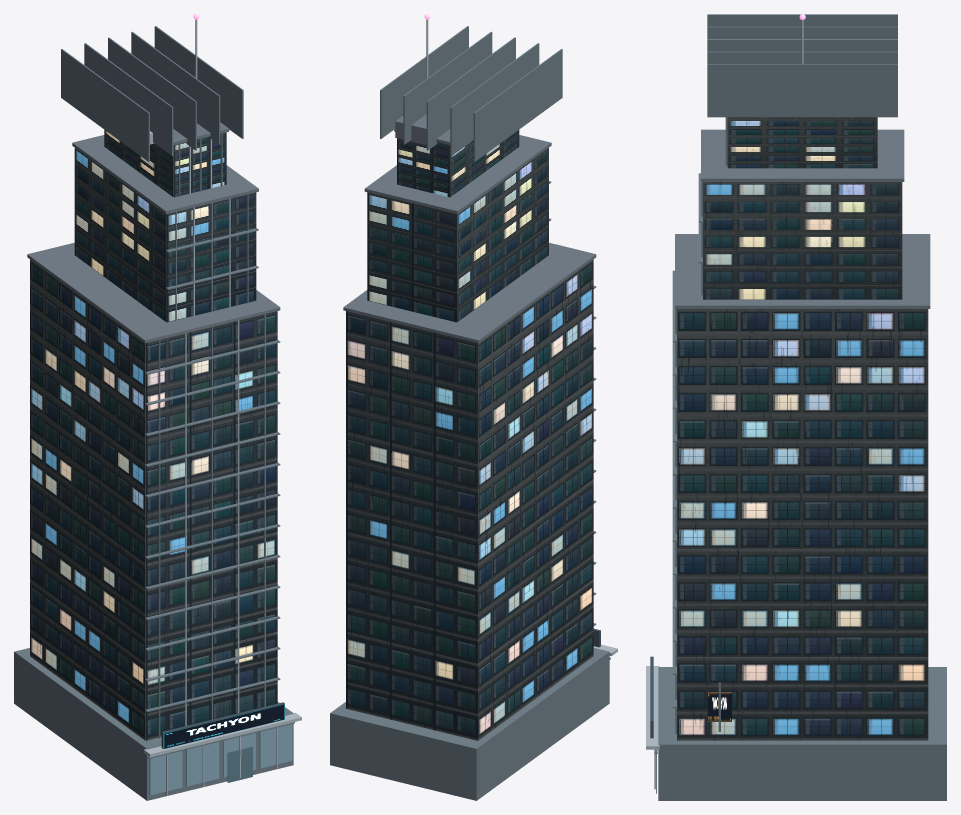
The model's file is building_00.glb.
The picture shows the model from 3 angles, left to right: view 1: azimuth 30°, elevation 25°; view 2: azimuth 150°, elevation 25°; view 3: azimuth 270°, elevation 25°; orthographic projection. The views are drawn at different scales.
Parts seen in each view (by area): view 1: facade_sideb_3, facade_0, frame, roof, facade_sideb_7, facade_4, glass, alum, facade_8, sign_12, facade_sideb_11, tint; view 2: facade_back_1, facade_sideb_3, frame, roof, facade_sideb_7, facade_back_5, facade_back_9, facade_sideb_11; view 3: facade_side_2, frame, facade_side_6, roof, facade_side_10, alum, side_sign_13.
Part boxes in pixels (<box>): facade_sideb_3: <box>30,259,145,740</box>; facade_0: <box>146,311,277,740</box>; frame: <box>14,26,294,800</box>; roof: <box>27,122,280,343</box>; facade_sideb_7: <box>74,148,166,322</box>; facade_4: <box>167,192,256,322</box>; glass: <box>149,724,292,795</box>; alum: <box>144,19,301,795</box>; facade_8: <box>174,132,226,197</box>; sign_12: <box>163,704,284,749</box>; facade_sideb_11: <box>104,130,173,196</box>; tint: <box>227,746,252,782</box>; facade_back_1: <box>346,311,477,740</box>; facade_sideb_3: <box>478,259,593,740</box>; frame: <box>330,26,610,800</box>; roof: <box>343,114,596,343</box>; facade_sideb_7: <box>457,148,548,322</box>; facade_back_5: <box>367,192,456,322</box>; facade_back_9: <box>397,138,449,197</box>; facade_sideb_11: <box>450,130,519,197</box>; facade_side_2: <box>677,309,928,740</box>; frame: <box>654,14,946,800</box>; facade_side_6: <box>703,182,902,299</box>; roof: <box>675,129,930,308</box>; facade_side_10: <box>727,117,877,168</box>; alum: <box>646,20,803,789</box>; side_sign_13: <box>707,692,731,721</box>.
Bounding box in the file's own units: 23.75 × 104 × 36.7.
24 materials, 14 textured.
